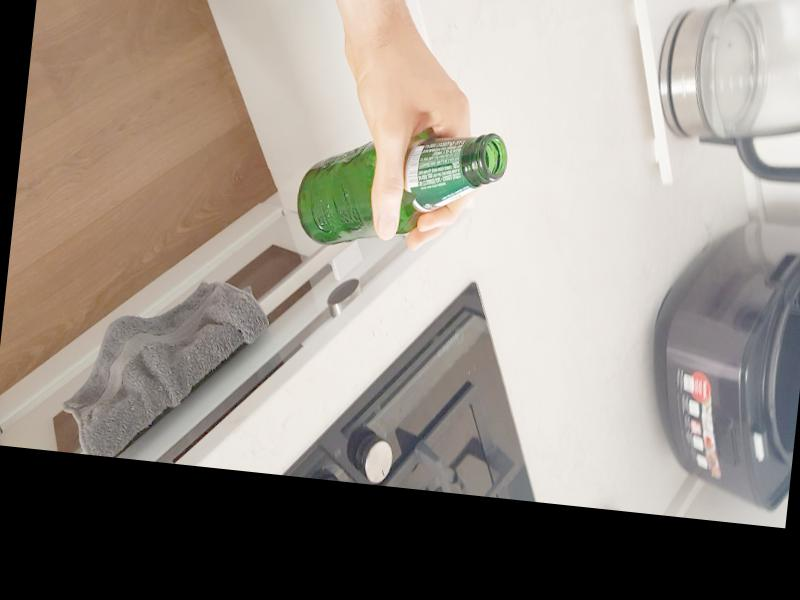Beer: (291, 113, 508, 263)
